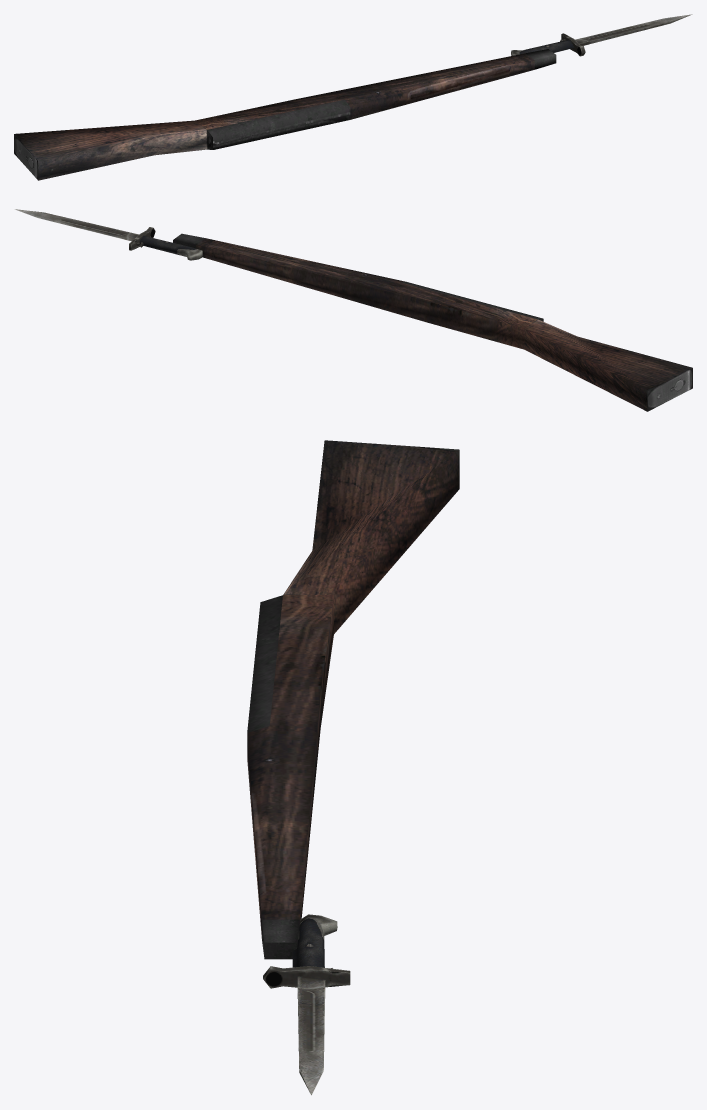
File: weapon_usa_springfield_rifle_bayonet_LOD21.obj
3 renders of one model, top to bottom at view 1: azimuth 30°, elevation 25°; view 2: azimuth 150°, elevation 25°; view 3: azimuth 270°, elevation 25°, orthographic. The views are drawn at different scales.
Parts seen in each view (by area): view 1: TomGroup_0, TomGroup_1; view 2: TomGroup_0, TomGroup_1; view 3: TomGroup_0, TomGroup_1.
Boxes of the visible parts, x1,y1,x2,y2 form: TomGroup_0: (14,49,556,180); TomGroup_1: (511,14,692,56); TomGroup_0: (173,233,692,411); TomGroup_1: (15,209,202,260); TomGroup_0: (247,440,459,959); TomGroup_1: (263,914,350,1095).
Bounding box in the file's own units: 153 × 4.4 × 21.57.
Materials: 2 (2 with a texture image).
